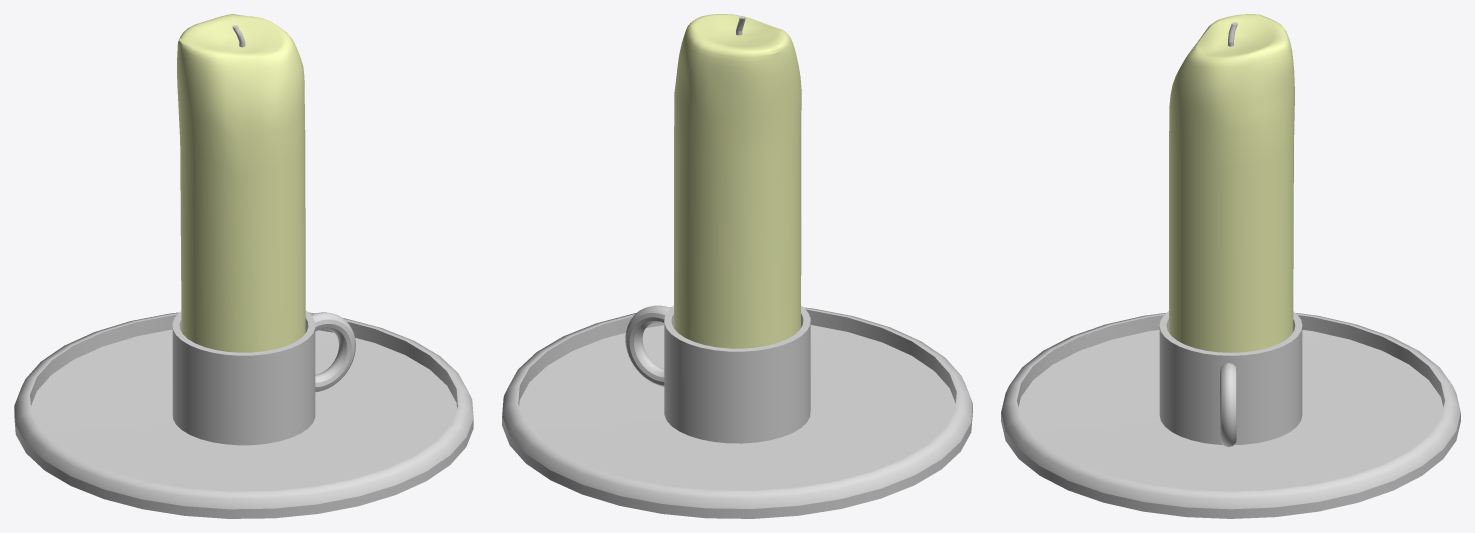
Rendered from candle.fbx.
3 views of the same model, side by side, from view 1: azimuth 30°, elevation 25°; view 2: azimuth 150°, elevation 25°; view 3: azimuth 270°, elevation 25° (orthographic). The views are drawn at different scales.
Parts seen in each view (by area): view 1: Candle; view 2: Candle; view 3: Candle.
Part boxes in pixels (<box>): Candle: <box>14,14,473,518</box>; Candle: <box>502,14,972,518</box>; Candle: <box>1001,14,1460,518</box>.
Bounding box in the file's own units: 22.12 × 20.97 × 22.12.
